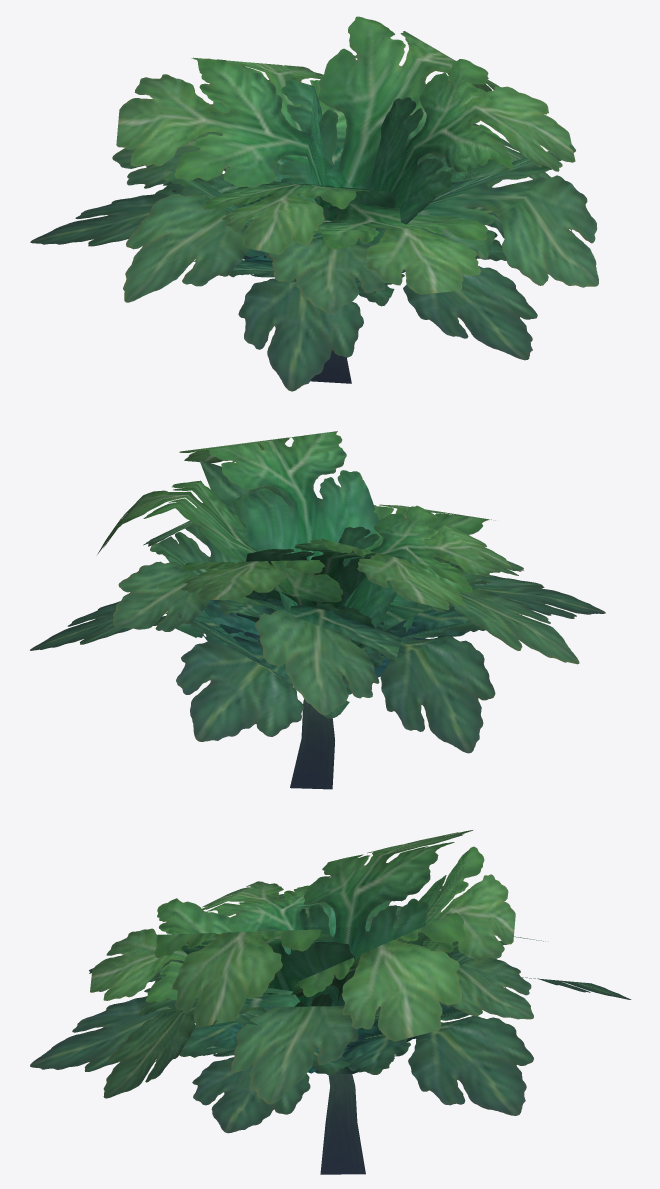
Rendered from Yland1_Zb_14_Yland1.FBX.
3 views of the same model, one above another, from view 1: azimuth 30°, elevation 25°; view 2: azimuth 150°, elevation 25°; view 3: azimuth 270°, elevation 25° (orthographic).
Visible parts, largest first — view 1: Yland1_Zb_14_Yland1; view 2: Yland1_Zb_14_Yland1; view 3: Yland1_Zb_14_Yland1.
Part boxes in pixels (bbox=[...]): Yland1_Zb_14_Yland1: bbox=[30, 16, 598, 391]; Yland1_Zb_14_Yland1: bbox=[30, 431, 605, 789]; Yland1_Zb_14_Yland1: bbox=[30, 830, 631, 1174].
Size of the model in its own units: 5.69 by 3.18 by 6.09.
